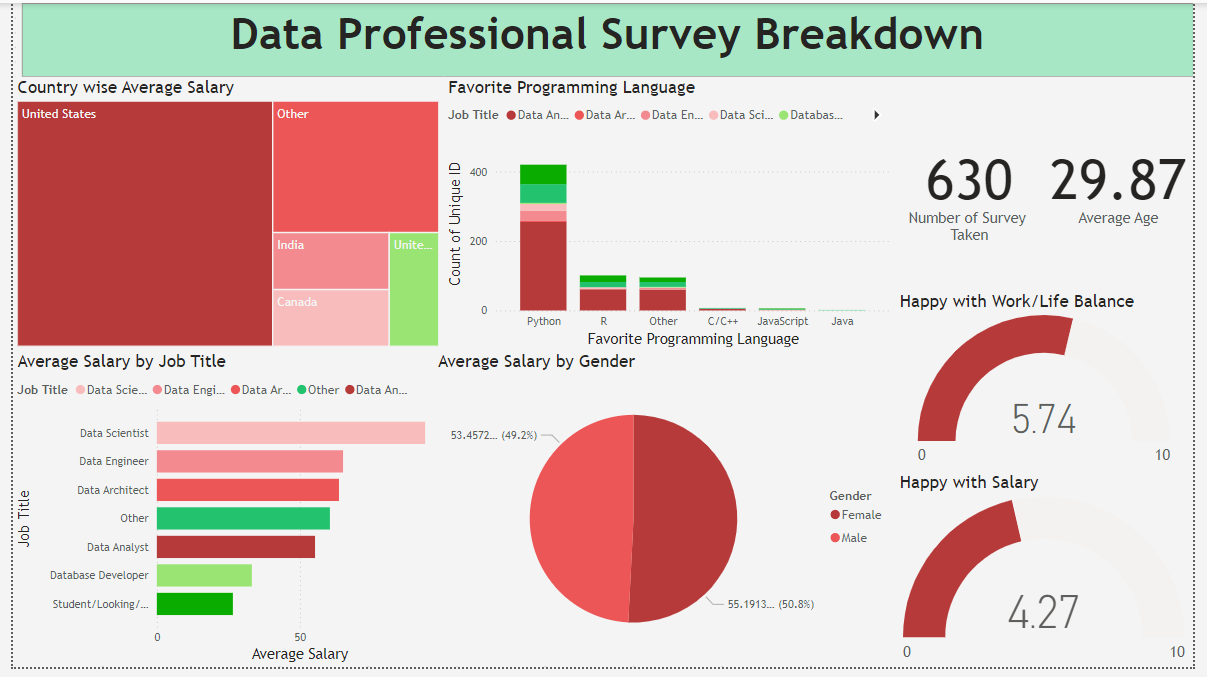

The dashboard page shown, as its layout file describes it:
{"tool":"powerbi","page":{"name":"Page 1","canvas":[1280,720],"ordinal":0},"visuals":[{"type":"textbox","box":[9.6,0,1270.4,80],"z":0},{"type":"card","fields":{"Values":["Count(Data Professional Survey.Unique ID)"]},"box":[956.8,80,161.6,232],"z":1000},{"type":"card","fields":{"Values":["Avg(Data Professional Survey.Q10 - Current Age)"]},"box":[1118.4,80,161.6,232],"z":2000},{"type":"barChart","title":"Average Salary by Job Title","fields":{"Category":["Data Professional Survey.Q1 - Which Title Best Fits your Current Role?.1"],"Y":["Avg(Data Professional Survey.Average Salary)"],"Series":["Data Professional Survey.Q1 - Which Title Best Fits your Current Role?.1"]},"box":[0,377.6,481.6,342.4],"z":3000},{"type":"columnChart","title":"Favorite Programming Language","fields":{"Category":["Data Professional Survey.Q5 - Favorite Programming Language.1"],"Y":["Count(Data Professional Survey.Unique ID)"],"Series":["Data Professional Survey.Job Title"]},"box":[467.2,80,489.6,297.6],"z":4000},{"type":"treemap","title":"Country wise Average Salary","fields":{"Group":["Data Professional Survey.Q11 - Which Country do you live in?.1"],"Values":["Sum(Data Professional Survey.Average Salary)"]},"box":[0,80,467.2,297.6],"z":4001},{"type":"gauge","title":"Happy with Work/Life Balance","fields":{"Y":["Avg(Data Professional Survey.Q6 - How Happy are you in your Current Position with the following? (Work/Life Balance))1"],"MinValue":["Min(Data Professional Survey.Q6 - How Happy are you in your Current Position with the following? (Work/Life Balance))"],"MaxValue":["Max(Data Professional Survey.Q6 - How Happy are you in your Current Position with the following? (Work/Life Balance))"]},"box":[956.8,312,323.2,196.8],"z":4002},{"type":"gauge","title":"Happy with Salary","fields":{"Y":["Avg(Data Professional Survey.Q6 - How Happy are you in your Current Position with the following? (Salary))"],"MinValue":["Min(Data Professional Survey.Q6 - How Happy are you in your Current Position with the following? (Salary))1"],"MaxValue":["Max(Data Professional Survey.Q6 - How Happy are you in your Current Position with the following? (Salary))2"]},"box":[956.8,508.8,323.2,212.8],"z":4003},{"type":"pieChart","title":"Average Salary by Gender","fields":{"Category":["Data Professional Survey.Q9 - Male/Female?"],"Y":["Avg(Data Professional Survey.Average Salary)"]},"box":[456,377.6,500.8,342.4],"z":4004}]}

Visuals, with their boxes in screenshot pixels (x1, y1, x2, y2), scaled from the page's 1280x720 canvas onto the 1207x677 screenshot:
textbox: l=9, t=0, r=1206, b=75
card - Count(Data Professional Survey.Unique ID): l=902, t=75, r=1055, b=293
card - Avg(Data Professional Survey.Q10 - Current Age): l=1055, t=75, r=1206, b=293
"Average Salary by Job Title" barChart: l=0, t=355, r=454, b=676
"Favorite Programming Language" columnChart: l=441, t=75, r=902, b=355
"Country wise Average Salary" treemap: l=0, t=75, r=441, b=355
"Happy with Work/Life Balance" gauge: l=902, t=293, r=1206, b=478
"Happy with Salary" gauge: l=902, t=478, r=1206, b=676
"Average Salary by Gender" pieChart: l=430, t=355, r=902, b=676
